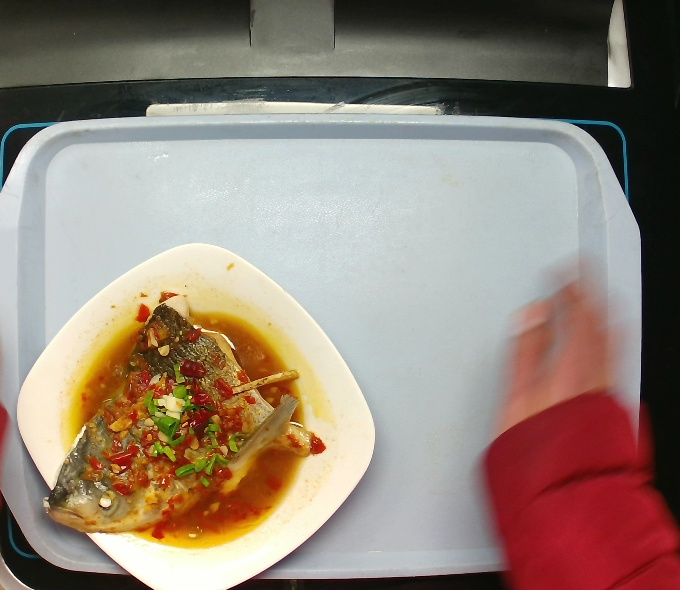wcq-DuoJiaoYuTou: (38, 278, 327, 550)
